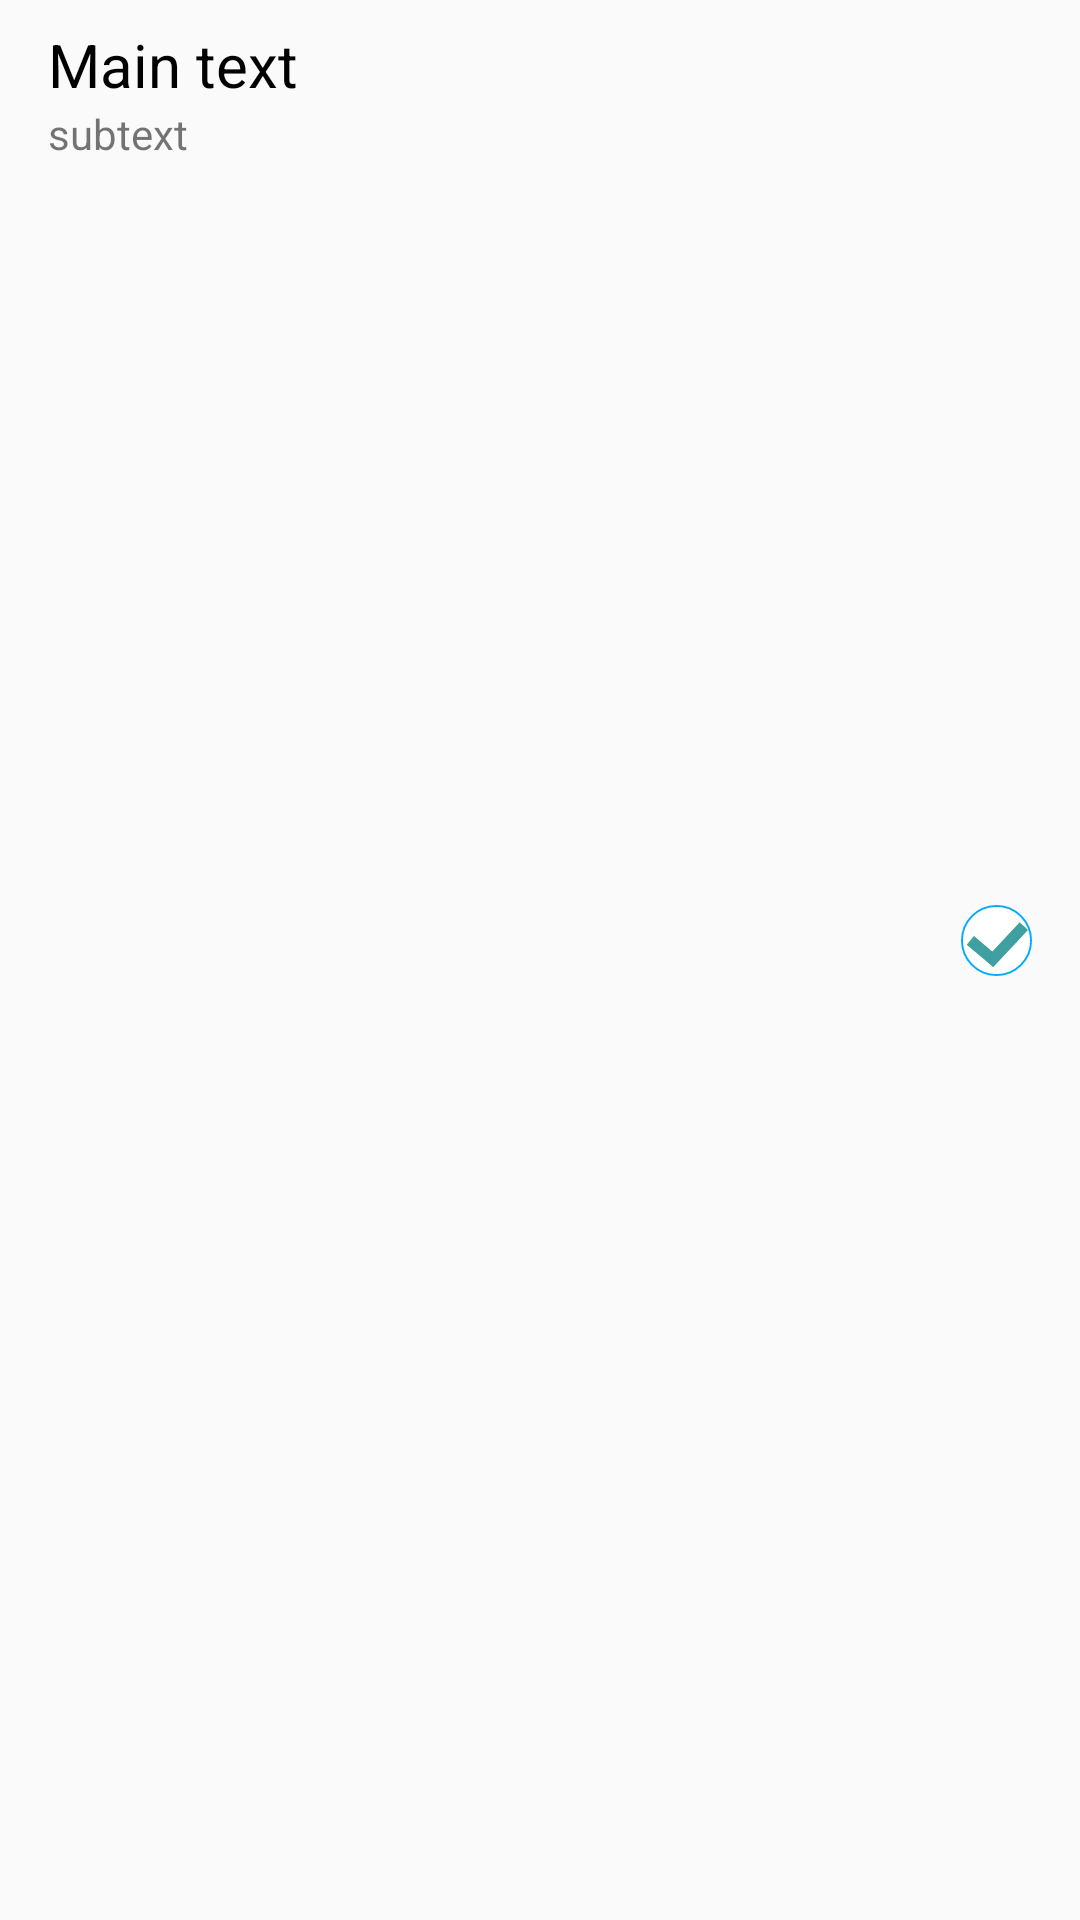

Screen size 1080*1920. Icon name, then its box in pixels as (x1, y1, x2, y2):
check: (961, 905, 1032, 976)
